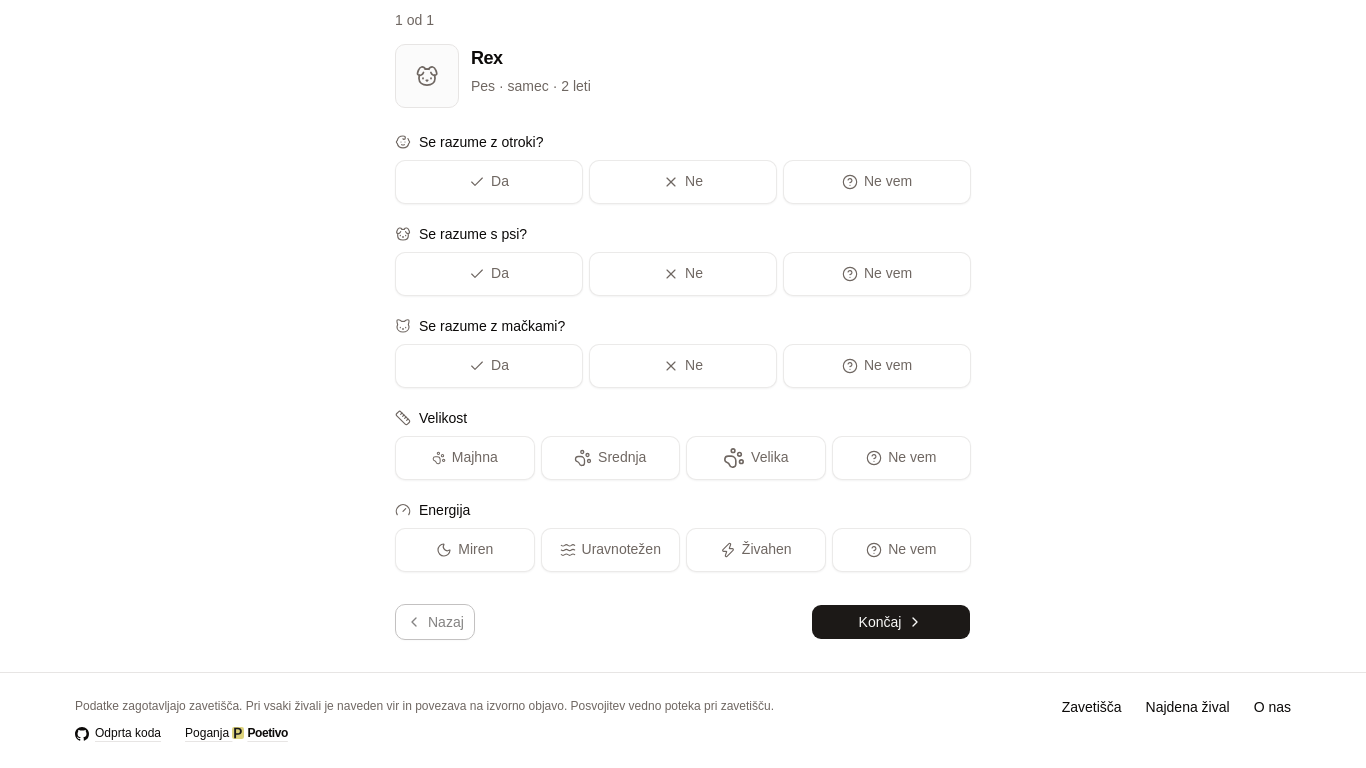
a tap › sends nothing for Ne vem on an empty energy, and says it stays open
(page scrolled)
Expected: the heading "Rex" is shown, top-left (471, 48), bottom-right (503, 68)
Click the 5th radio button labelled "Ne vem": (901, 550) top-left (832, 528), bottom-right (971, 572)
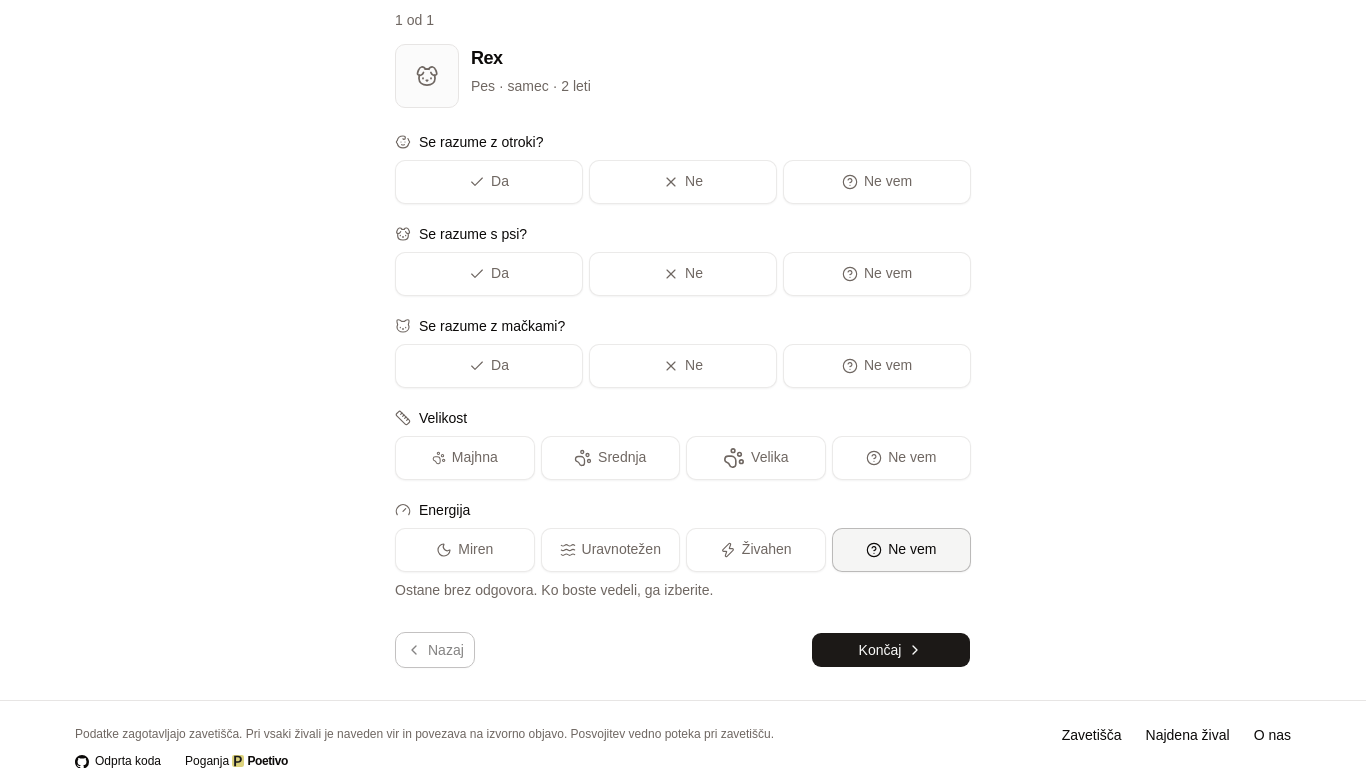
Expected: the text "Ostane brez odgovora. Ko boste vedeli, ga izberite." is shown, top-left (395, 582), bottom-right (713, 598)
